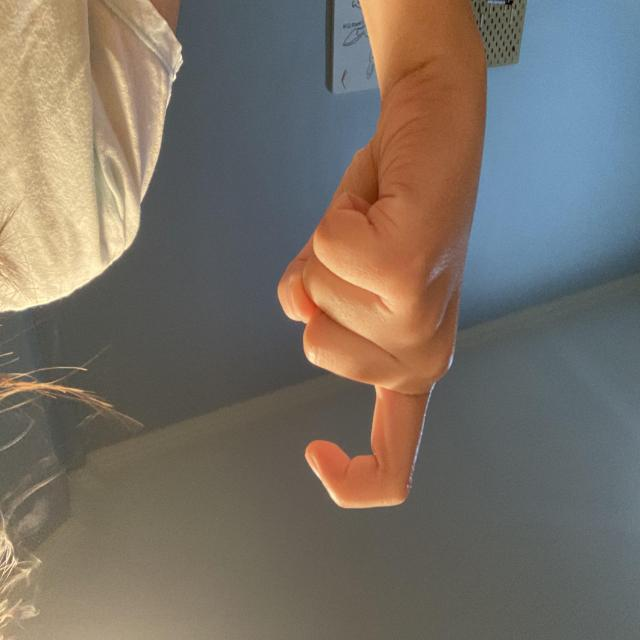X: (153, 130, 363, 577)
